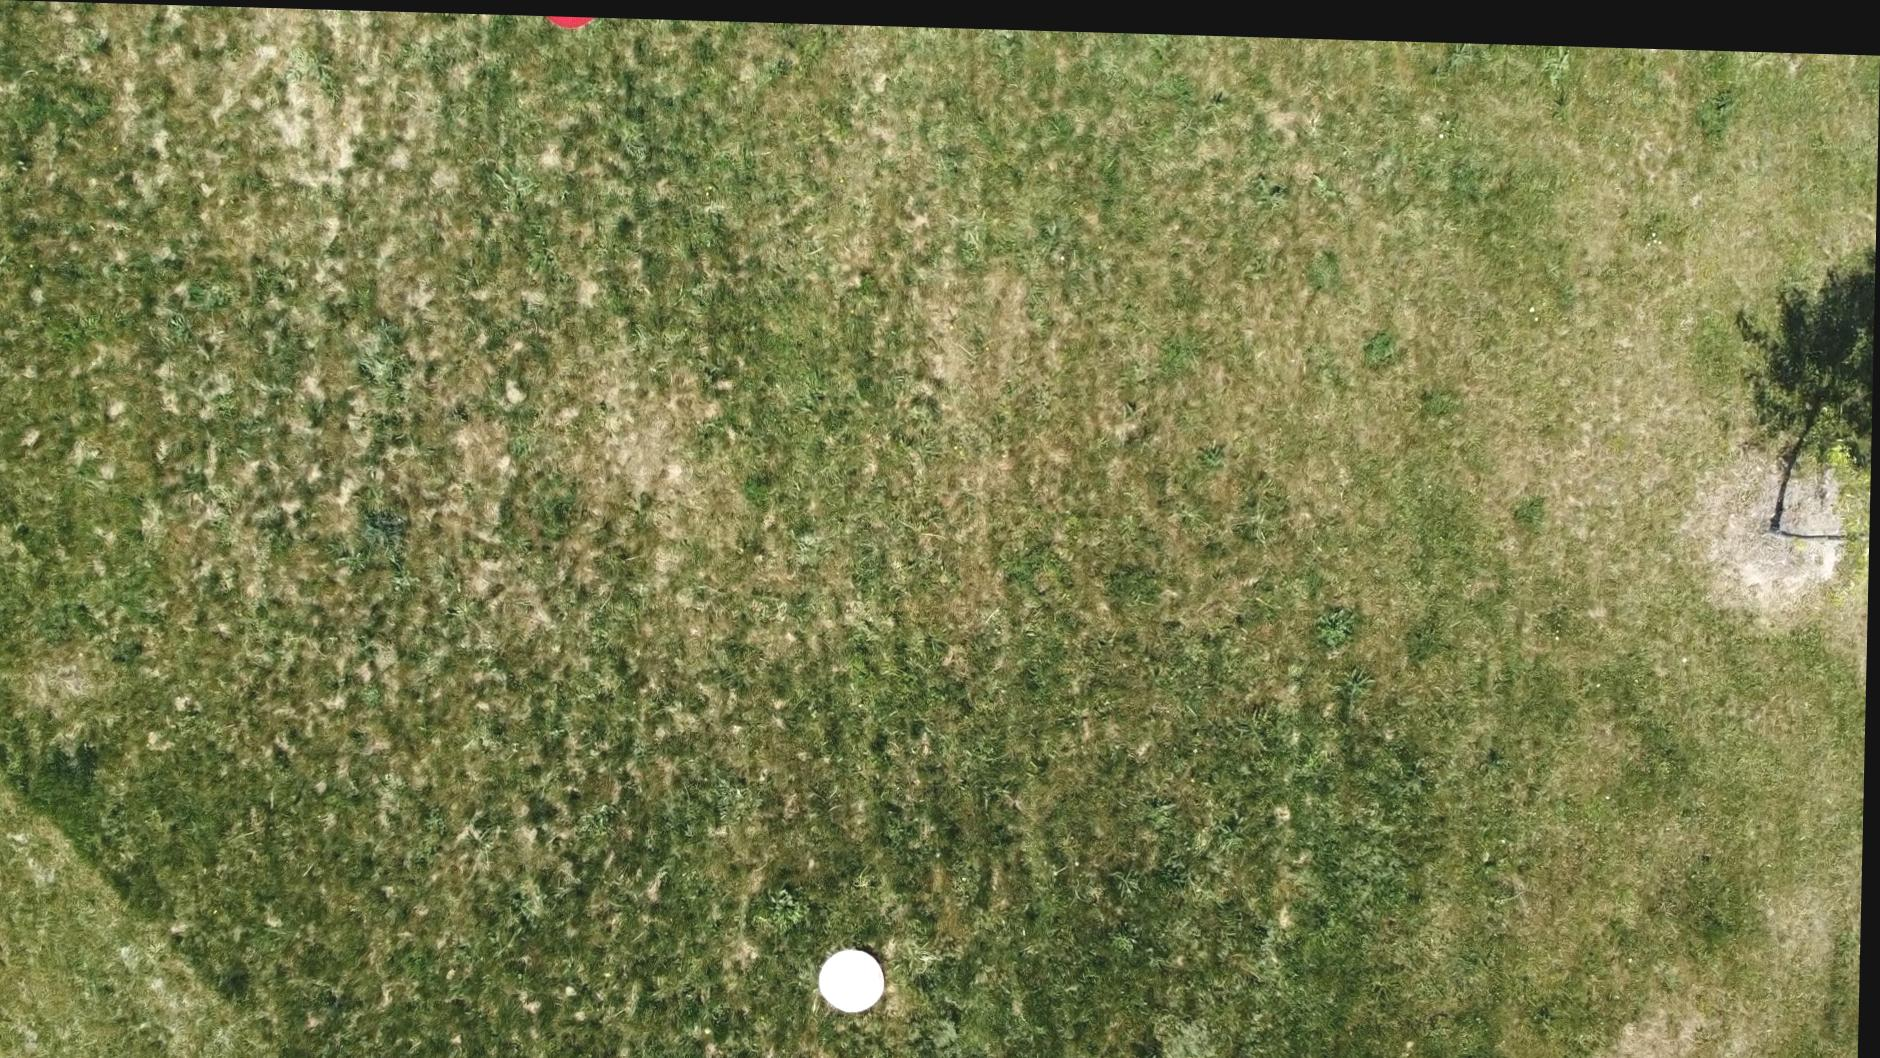Red: (821, 940, 892, 1010)
